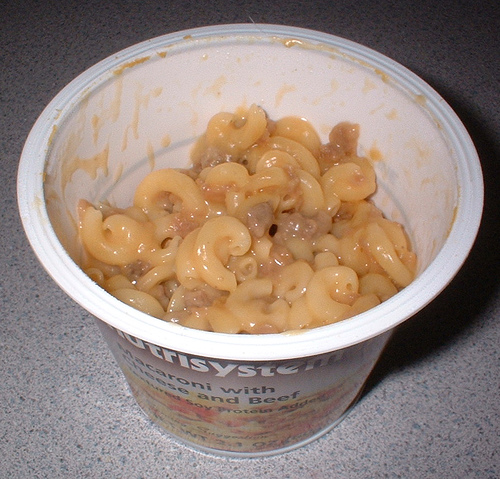macncheese: (77, 106, 416, 345)
